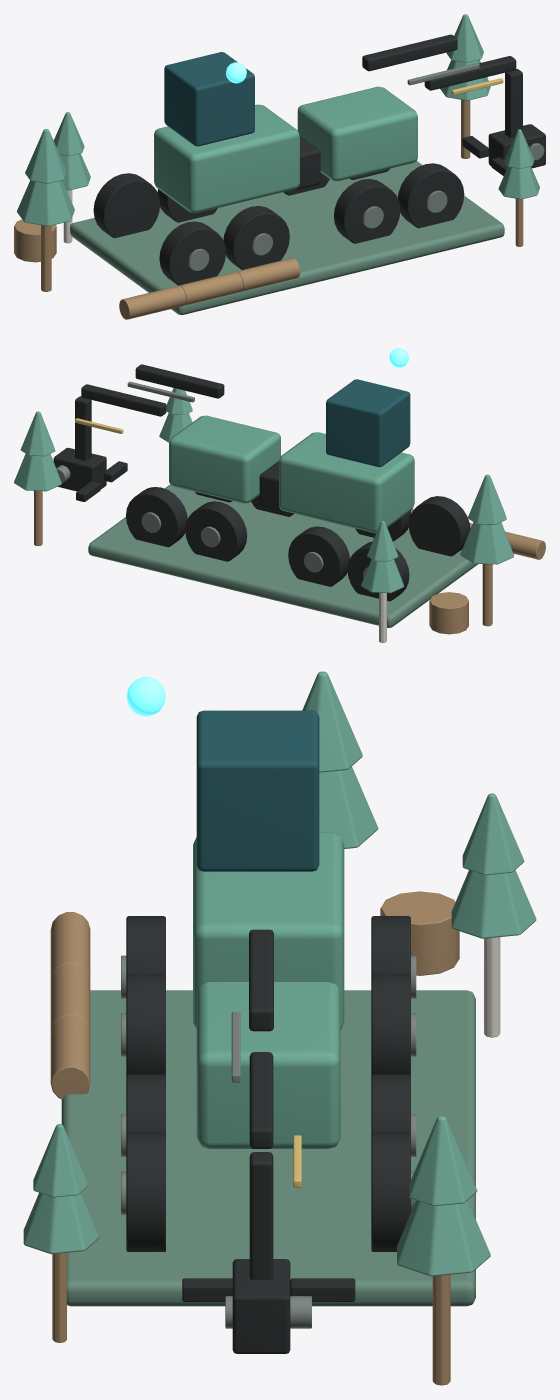
File: dasa-forestry.glb
3 renders of one model, top to bottom at view 1: azimuth 30°, elevation 25°; view 2: azimuth 150°, elevation 25°; view 3: azimuth 270°, elevation 25°, orthographic. The views are drawn at different scales.
Parts seen in each view (by area): view 1: LM_Dasa_Root, LM_Dasa_HarvesterRearBody, LM_Dasa_HarvesterFrontBody, LM_Dasa_Cabin, LM_Dasa_Wheel_R_0, LM_Dasa_Wheel_L_2, LM_Dasa_Wheel_L_3, LM_Dasa_Wheel_L_0, LM_Dasa_Wheel_L_1, LM_Dasa_TreeCrown_0_Lower, LM_Dasa_Boom_Base, LM_Dasa_CutLog_0 (+24 smaller); view 2: LM_Dasa_Root, LM_Dasa_HarvesterRearBody, LM_Dasa_HarvesterFrontBody, LM_Dasa_Cabin, LM_Dasa_Wheel_L_0, LM_Dasa_Wheel_R_2, LM_Dasa_Wheel_R_1, LM_Dasa_Wheel_R_3, LM_Dasa_TreeCrown_0_Lower, LM_Dasa_Stump, LM_Dasa_HarvesterHead, LM_Dasa_Boom_Base (+17 smaller); view 3: LM_Dasa_Root, LM_Dasa_HarvesterFrontBody, LM_Dasa_Cabin, LM_Dasa_HarvesterRearBody, LM_Dasa_TreeCrown_2_Lower, LM_Dasa_HarvesterHead, LM_Dasa_Wheel_L_3, LM_Dasa_TreeCrown_1_Lower, LM_Dasa_Wheel_R_3, LM_Dasa_Stump, LM_Dasa_Wheel_L_1, LM_Dasa_Wheel_R_1 (+22 smaller).
Part boxes in pixels (x1=…): LM_Dasa_Root: x1=70, y1=161, x2=504, y2=314; LM_Dasa_HarvesterRearBody: x1=154, y1=104, x2=299, y2=213; LM_Dasa_HarvesterFrontBody: x1=297, y1=86, x2=417, y2=181; LM_Dasa_Cabin: x1=164, y1=52, x2=254, y2=146; LM_Dasa_Wheel_R_0: x1=93, y1=173, x2=160, y2=238; LM_Dasa_Wheel_L_2: x1=334, y1=179, x2=400, y2=243; LM_Dasa_Wheel_L_3: x1=398, y1=163, x2=464, y2=228; LM_Dasa_Wheel_L_0: x1=159, y1=221, x2=225, y2=285; LM_Dasa_Wheel_L_1: x1=223, y1=206, x2=289, y2=269; LM_Dasa_TreeCrown_0_Lower: x1=17, y1=180, x2=74, y2=226; LM_Dasa_Boom_Base: x1=362, y1=34, x2=457, y2=71; LM_Dasa_CutLog_0: x1=119, y1=285, x2=186, y2=319; LM_Dasa_Root: x1=88, y1=484, x2=477, y2=627; LM_Dasa_HarvesterRearBody: x1=279, y1=432, x2=414, y2=533; LM_Dasa_HarvesterFrontBody: x1=169, y1=415, x2=280, y2=503; LM_Dasa_Cabin: x1=326, y1=379, x2=410, y2=467; LM_Dasa_Wheel_L_0: x1=408, y1=496, x2=470, y2=556; LM_Dasa_Wheel_R_2: x1=185, y1=501, x2=247, y2=561; LM_Dasa_Wheel_R_1: x1=288, y1=526, x2=349, y2=586; LM_Dasa_Wheel_R_3: x1=126, y1=487, x2=187, y2=547; LM_Dasa_TreeCrown_0_Lower: x1=460, y1=522, x2=513, y2=564; LM_Dasa_Stump: x1=429, y1=592, x2=468, y2=634; LM_Dasa_HarvesterHead: x1=53, y1=447, x2=106, y2=491; LM_Dasa_Boom_Base: x1=135, y1=364, x2=224, y2=398; LM_Dasa_Root: x1=61, y1=990, x2=475, y2=1306; LM_Dasa_HarvesterFrontBody: x1=196, y1=981, x2=340, y2=1148; LM_Dasa_Cabin: x1=196, y1=710, x2=319, y2=871; LM_Dasa_HarvesterRearBody: x1=193, y1=832, x2=344, y2=1029; LM_Dasa_TreeCrown_2_Lower: x1=397, y1=1200, x2=490, y2=1276; LM_Dasa_HarvesterHead: x1=232, y1=1259, x2=290, y2=1353; LM_Dasa_Wheel_L_3: x1=126, y1=1132, x2=165, y2=1251; LM_Dasa_TreeCrown_1_Lower: x1=451, y1=870, x2=536, y2=938; LM_Dasa_Wheel_R_3: x1=371, y1=1132, x2=410, y2=1251; LM_Dasa_Stump: x1=380, y1=891, x2=459, y2=975; LM_Dasa_Wheel_L_1: x1=126, y1=974, x2=165, y2=1075; LM_Dasa_Wheel_R_1: x1=371, y1=974, x2=410, y2=1075.
Size of the model in its own units: 2.99 by 1.3 by 1.42.
